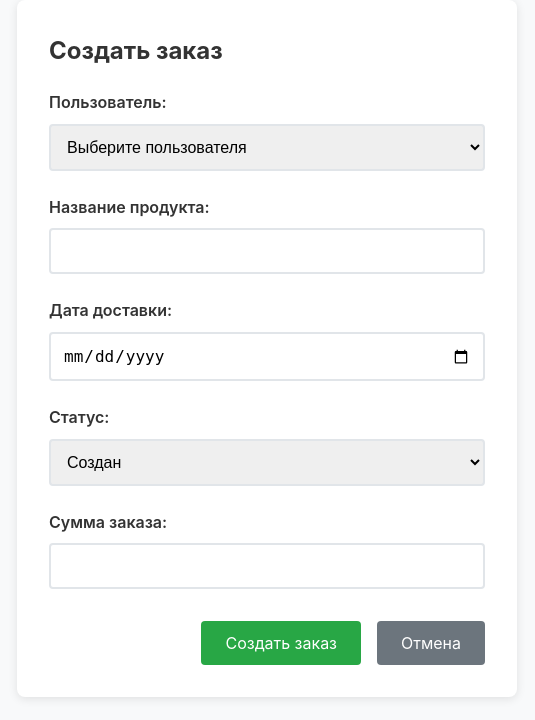
Scenario: OrderForm › Common functionality › validates required fields
This screenshot has width=535, height=720.
Click the button with test id "submit-btn" at point(281, 643), box [201, 621, 361, 665]
(page scrolled)
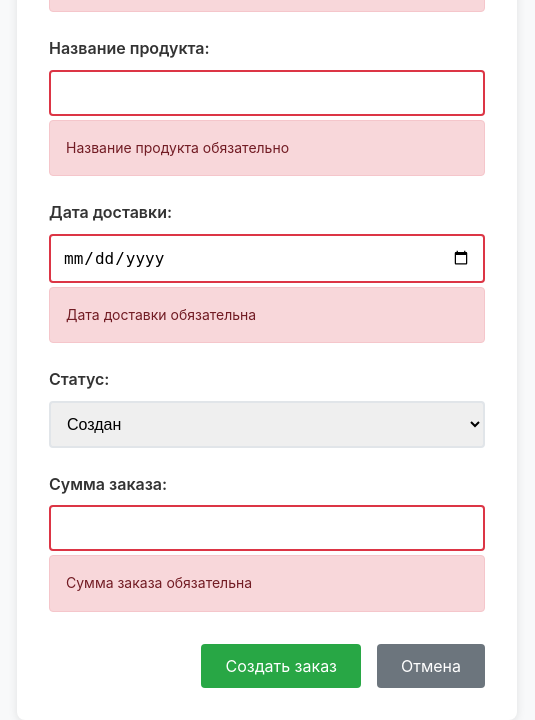
expect the text with test id "product-name-error" reads "Название продукта обязательно": met, box [66, 139, 289, 156]
expect the text with test id "delivery-date-error" reads "Дата доставки обязательна": met, box [66, 306, 256, 323]
expect the text with test id "total-error" reads "Сумма заказа обязательна": met, box [66, 574, 252, 591]
